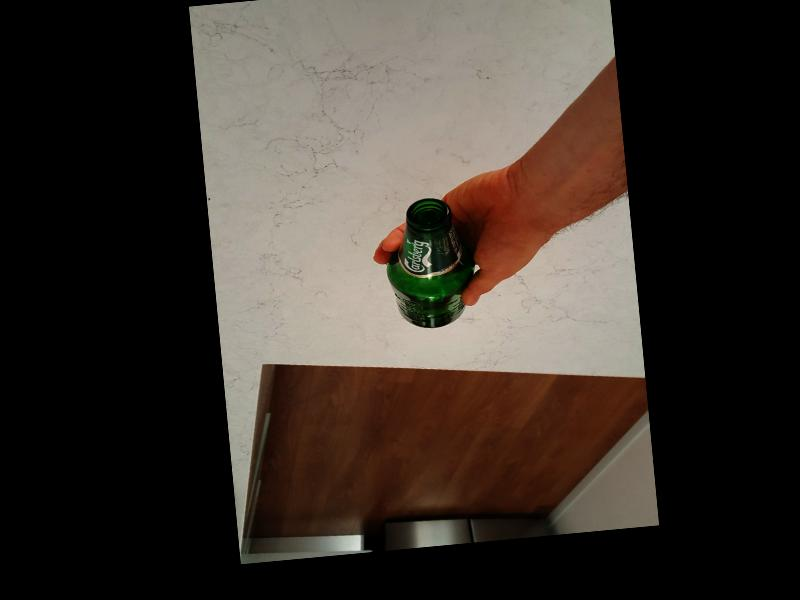Beer: (381, 194, 478, 332)
